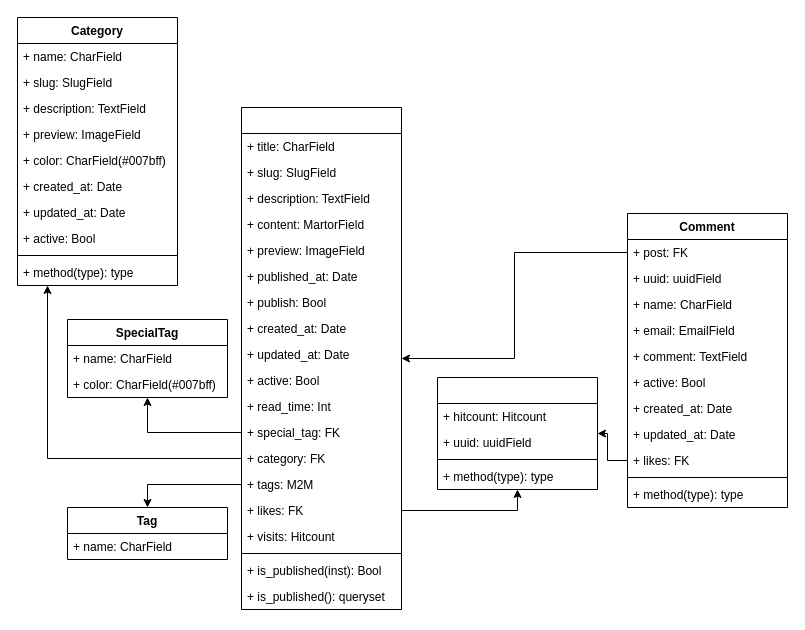
Image size: 805x630. Some labels were removed from this diagram. The shapes that lost their labels are listed below. From the top down, each one's box as (x1, y1, x2, y2) in pixels, then its label:
(240, 106, 402, 610): Post
(436, 376, 598, 490): Like
